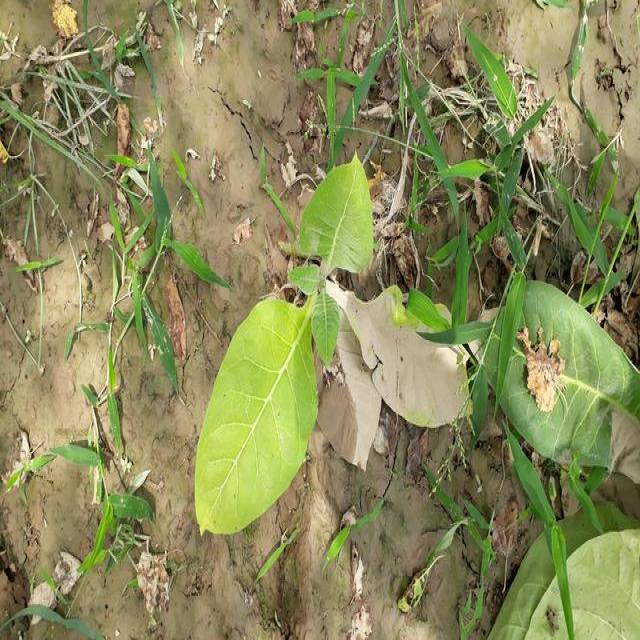crop: (198, 158, 382, 534)
